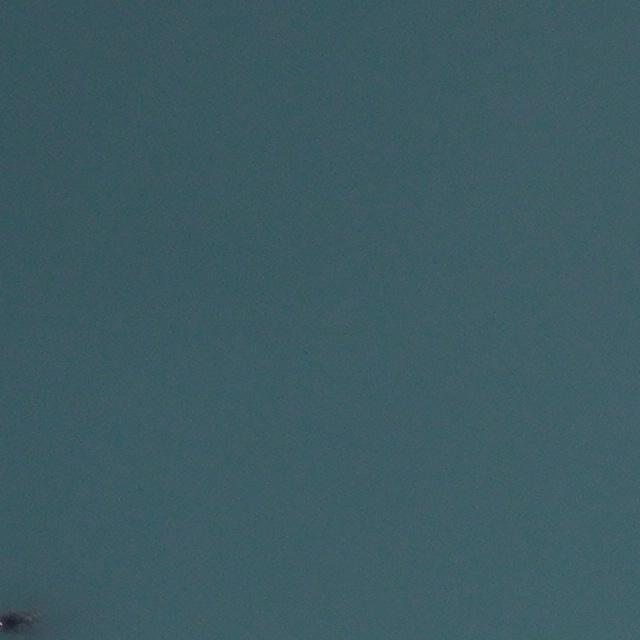seal: (0, 612, 32, 630)
